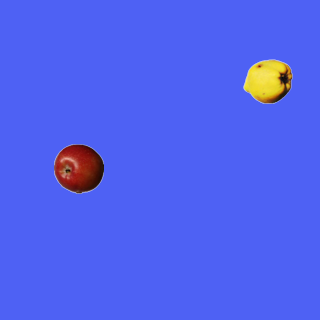Apple Braeburn: (53, 143, 103, 193)
Quince: (242, 56, 292, 106)
